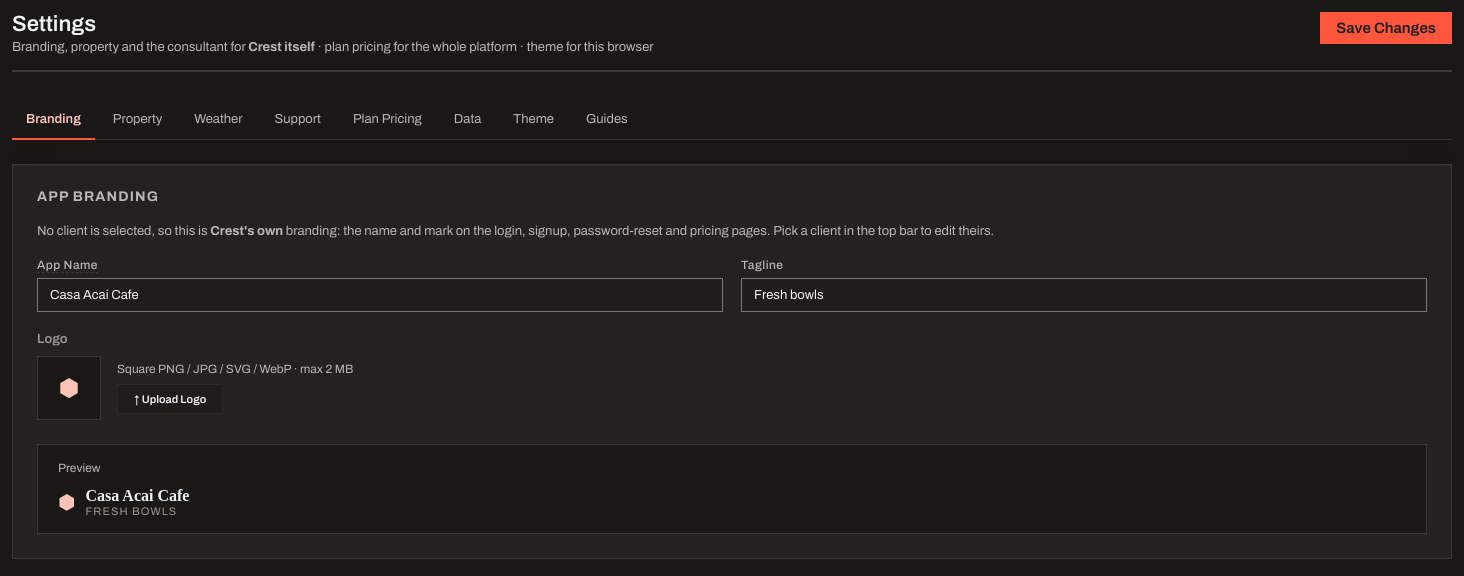
Test case: with no client selected › offers no Property fields and no Save, because nothing reads them off the platform row
What coordinates should you click on to do the following:
click the tab "Property"
I would click on:
 (138, 120)
Its box is 99,100 -> 176,140.
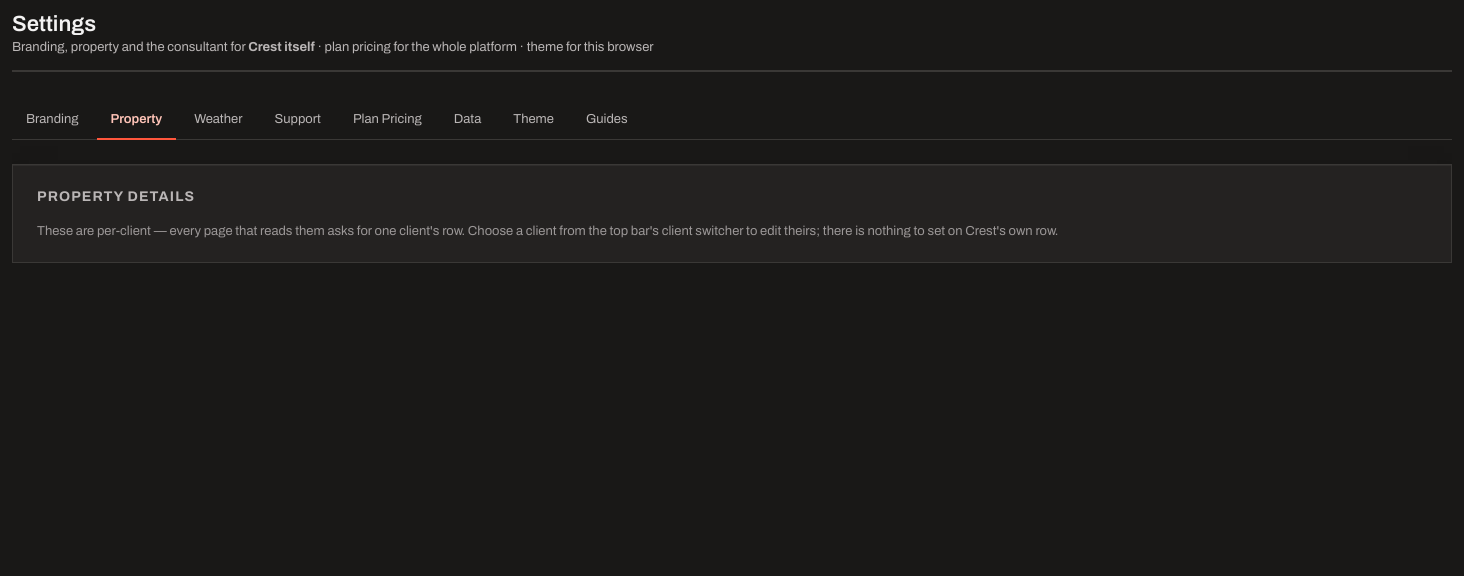
Expected: the button "Save Changes" is gone
Expected: the text "Choose a client from the top bar" is shown, 37,224 -> 1058,238
